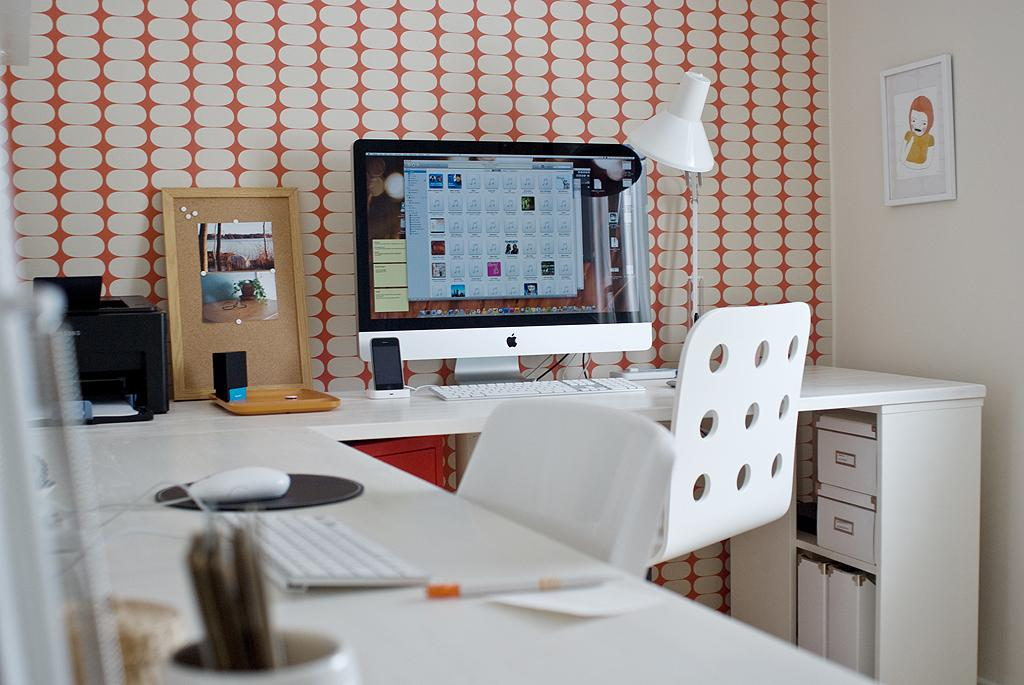computer: (353, 139, 654, 401)
